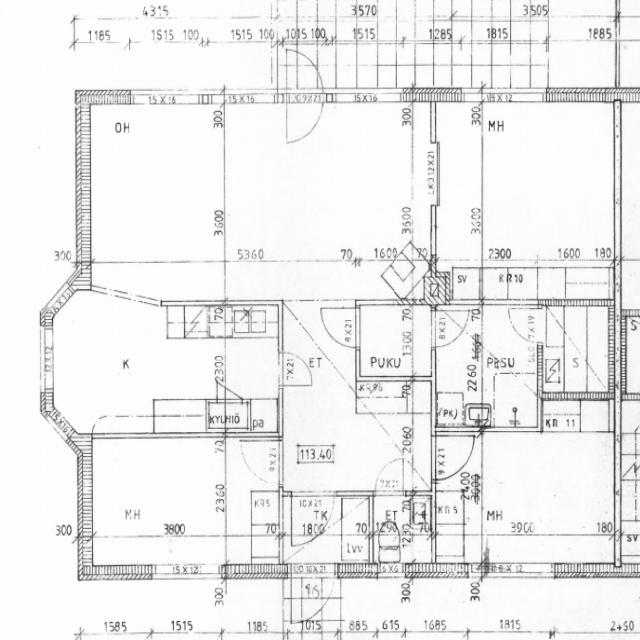door: (291, 563, 336, 631), (291, 492, 334, 548), (287, 88, 324, 146), (287, 45, 324, 102), (240, 440, 282, 484), (431, 436, 473, 479), (320, 307, 360, 348), (431, 312, 467, 348), (278, 352, 312, 386), (508, 309, 543, 342), (376, 461, 402, 496), (216, 370, 242, 402)
